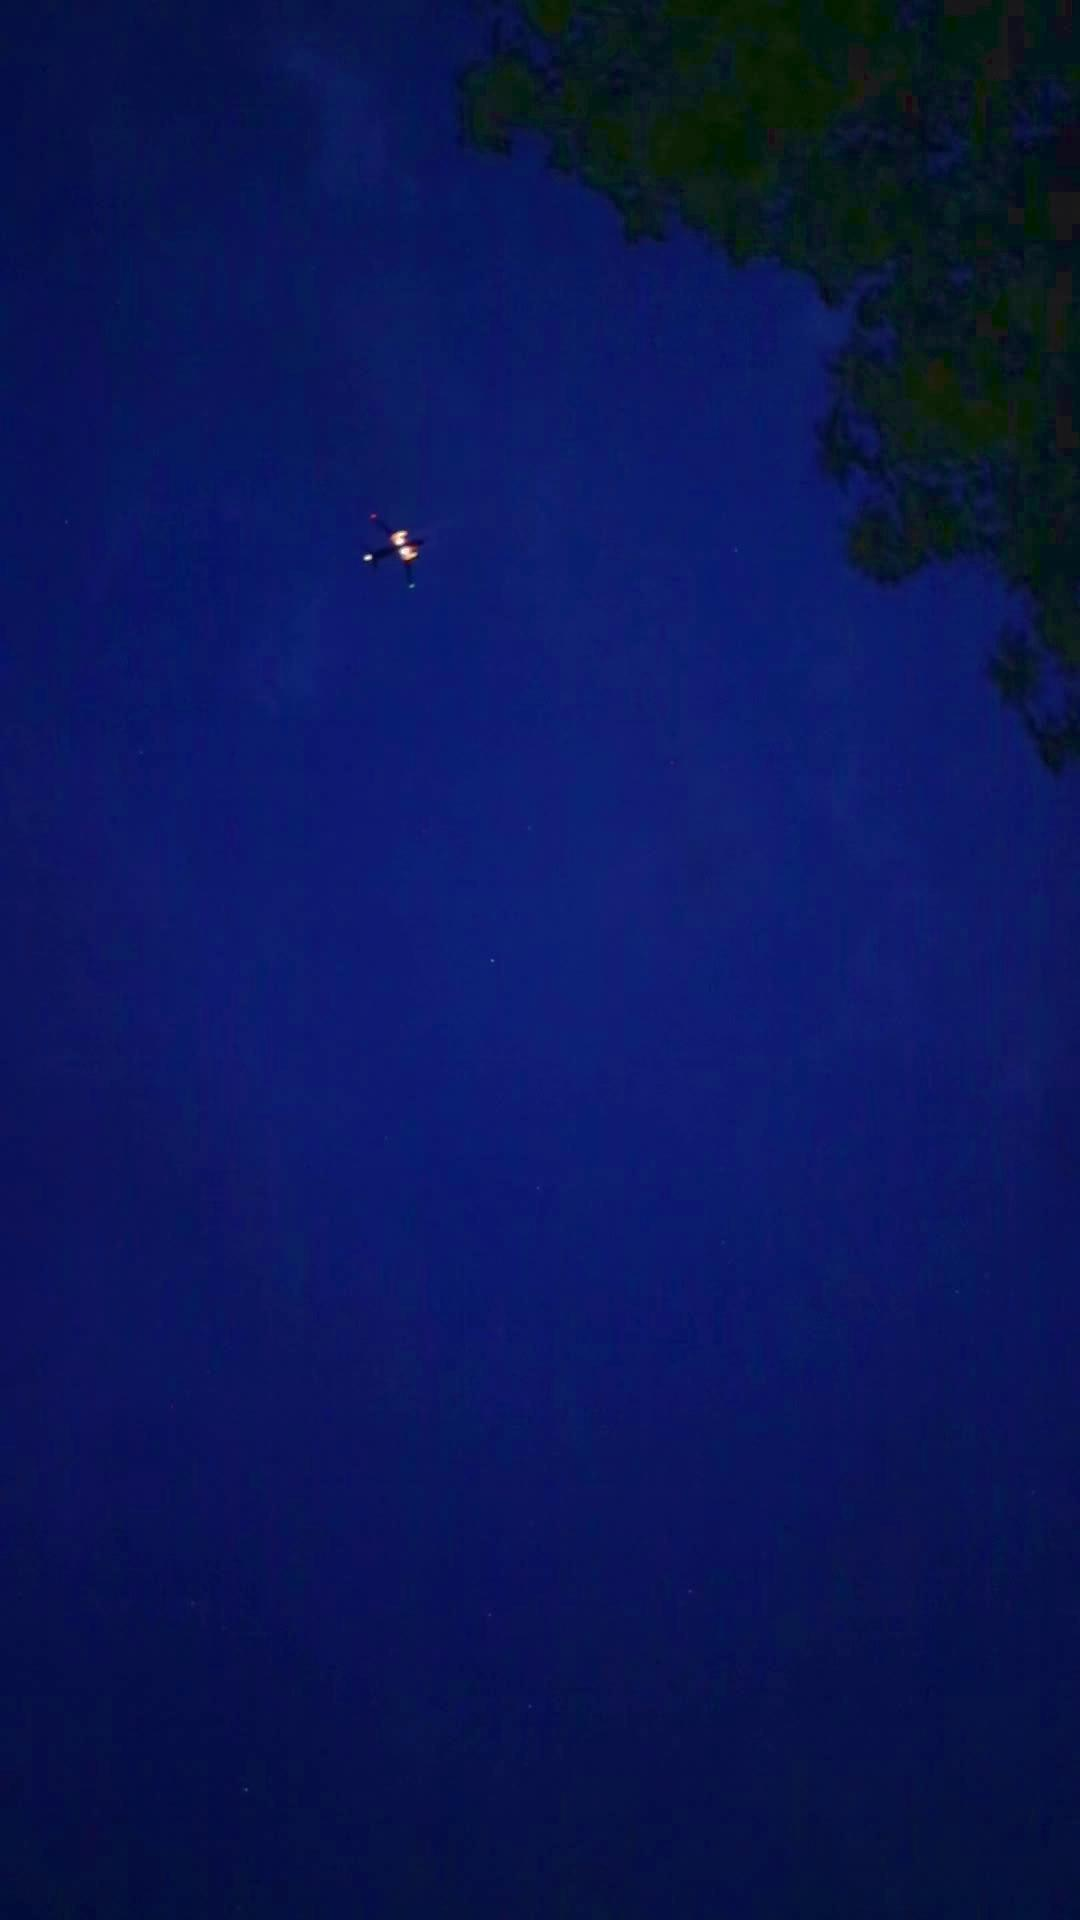Plane: (348, 497, 447, 589)
